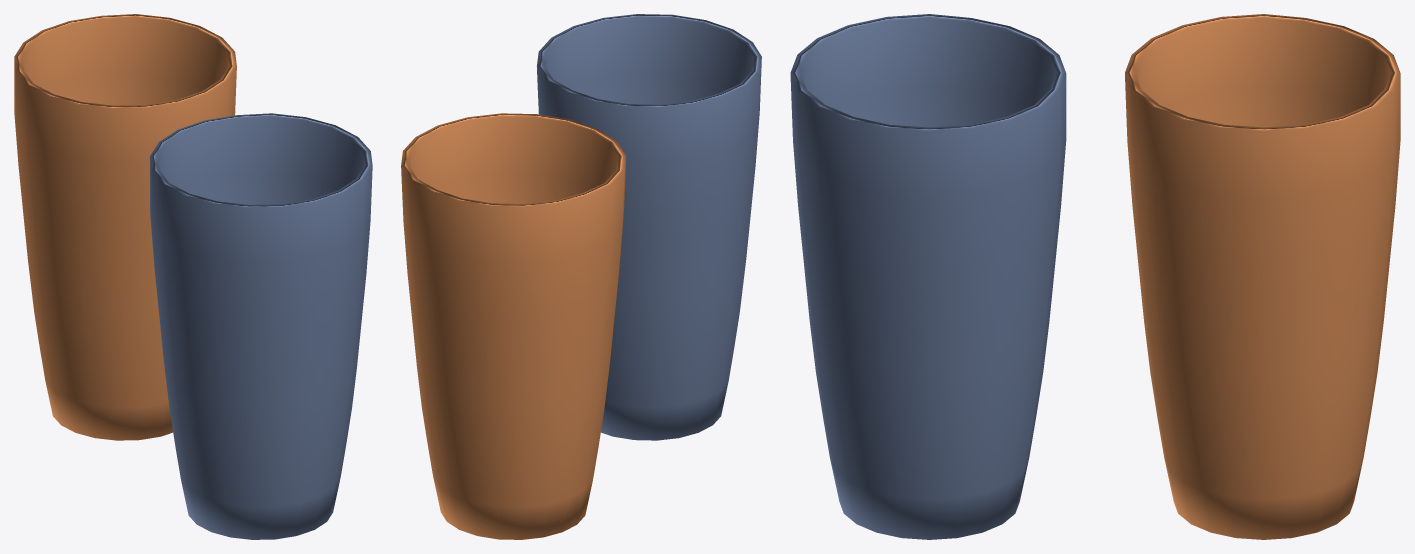
File: vase.fbx
The picture shows the model from 3 angles, left to right: view 1: azimuth 30°, elevation 25°; view 2: azimuth 150°, elevation 25°; view 3: azimuth 270°, elevation 25°; orthographic projection. The views are drawn at different scales.
Visible parts, largest first — view 1: pCylinder13, pCylinder9; view 2: pCylinder9, pCylinder13; view 3: pCylinder13, pCylinder9.
Part boxes in pixels (x1,y1,x2,y2): pCylinder13: (150, 113, 372, 539); pCylinder9: (14, 14, 236, 440); pCylinder9: (401, 113, 625, 539); pCylinder13: (536, 14, 761, 440); pCylinder13: (790, 14, 1066, 539); pCylinder9: (1125, 14, 1400, 539).
Size of the model in its own units: 1.21 by 2.05 by 2.64.
